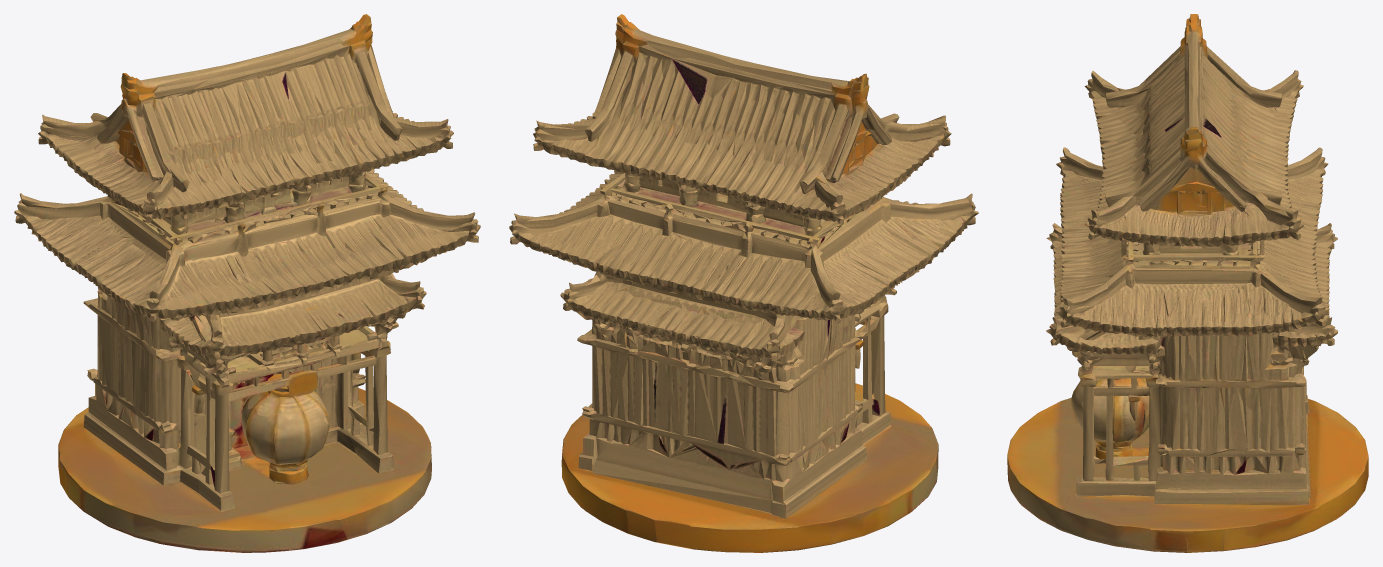
Rendered from sensoji.glb.
3 renders of one model, left to right at view 1: azimuth 30°, elevation 25°; view 2: azimuth 150°, elevation 25°; view 3: azimuth 270°, elevation 25°, orthographic. The views are drawn at different scales.
Size of the model in its own units: 1.57 by 1.9 by 1.52.
Materials: 1 (1 with a texture image).
